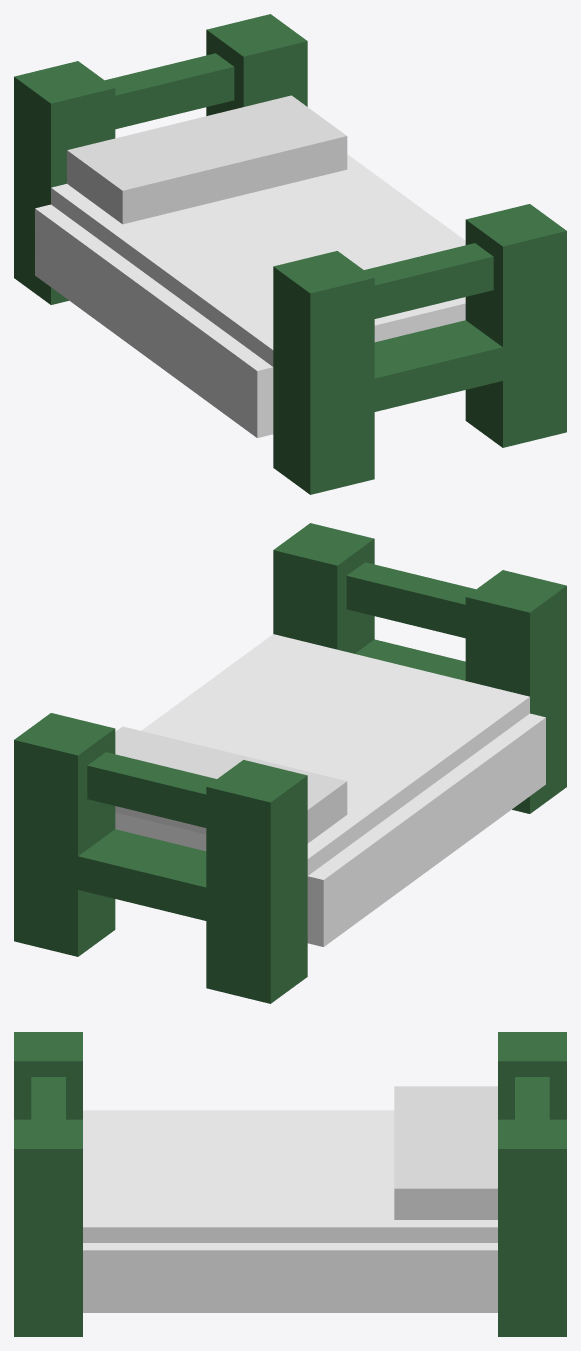
The model's file is Bed.glb.
The picture shows the model from 3 angles, top to bottom: view 1: azimuth 30°, elevation 25°; view 2: azimuth 150°, elevation 25°; view 3: azimuth 270°, elevation 25°; orthographic projection. The views are drawn at different scales.
Parts seen in each view (by area): view 1: pl0; view 2: pl0; view 3: pl0.
Boxes of the visible parts, bbox=[...] form: pl0: bbox=[14, 14, 566, 494]; pl0: bbox=[14, 523, 566, 1003]; pl0: bbox=[14, 1032, 566, 1336].
Bounding box in the file's own units: 1.8 × 1.2 × 3.2.
Materials: 1 (1 with a texture image).
